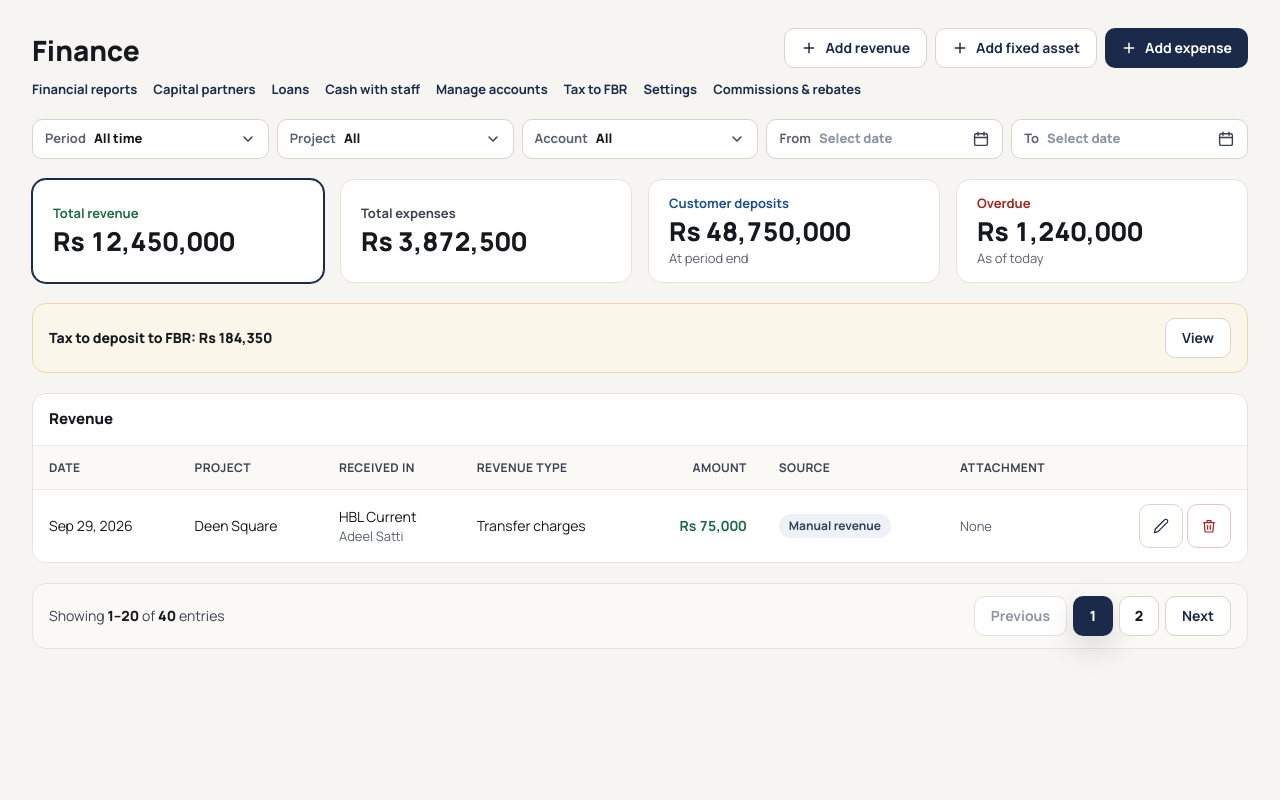
Test case: Finance home › keeps page 1 pagination when the next page fails
This screenshot has width=1280, height=800.
Expected: the navigation bar named "Pagination" shows "1–20", [32,583,1248,649]
Click the button named "Page 2" at (1139, 616), box [1119,596,1159,636]
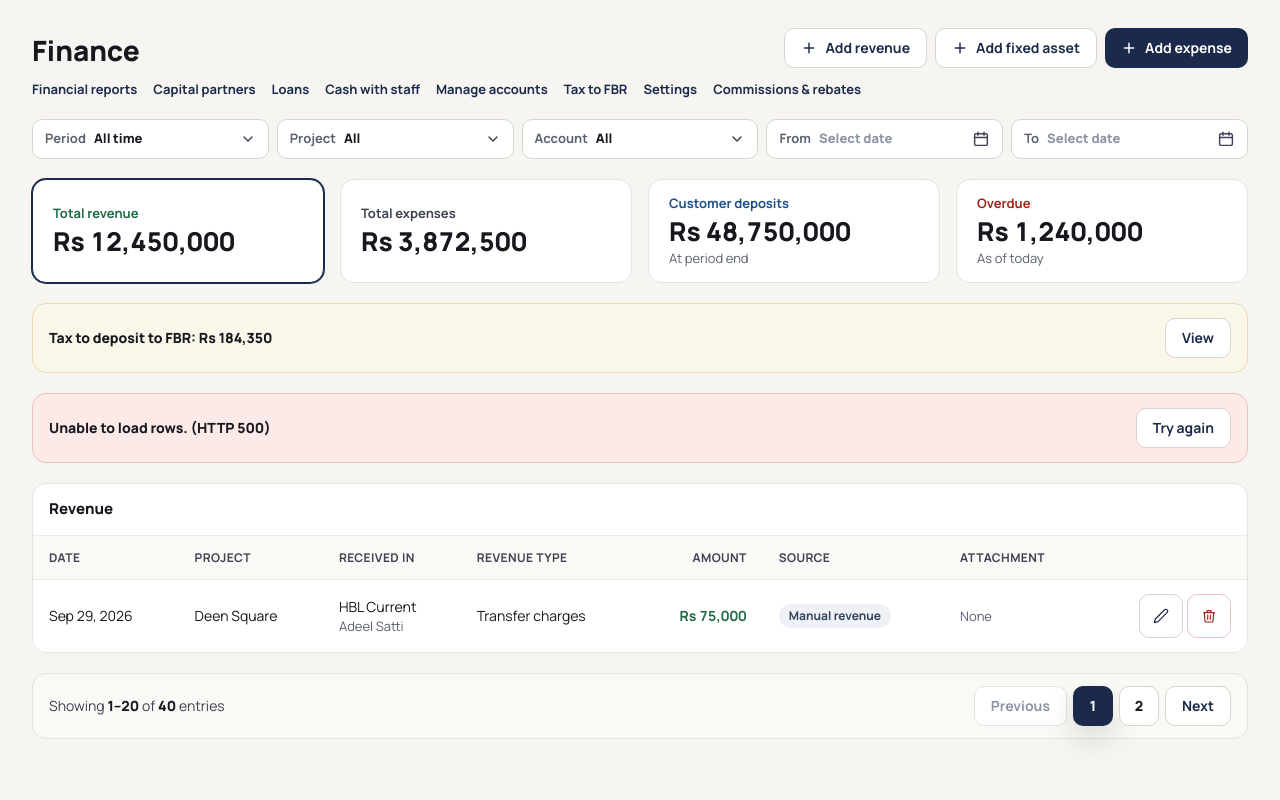
Expected: the navigation bar named "Pagination" shows "1–20", [32,673,1248,739]
Result: the text "Unable to load rows. (HTTP 500)" is shown at [49,418,271,437]
Result: the button "Try again" is shown at [1136,408,1231,448]
